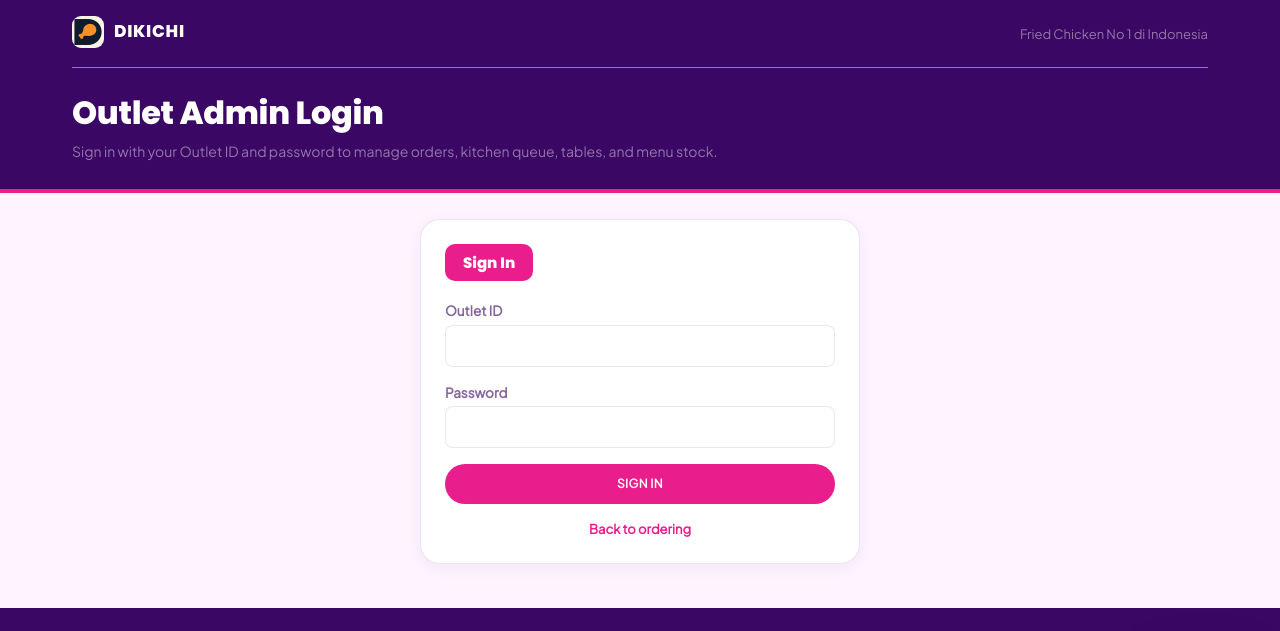
LoginPage › shows the generic failure and keeps what was typed after a 401
The width and height of the screenshot is (1280, 631).
Type "OUT-01" into the field labelled "Outlet ID" at (640, 346), box [445,325,835,367]
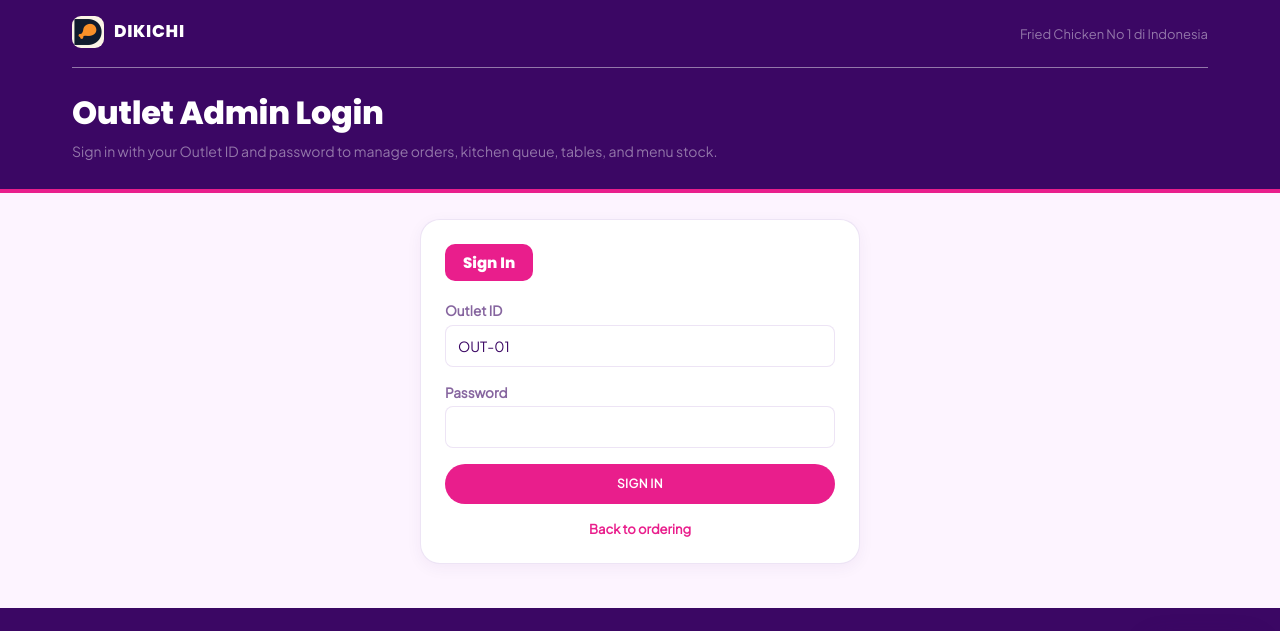
Type "wrong" into the password field labelled "Password" at (640, 428), box [445,406,835,448]
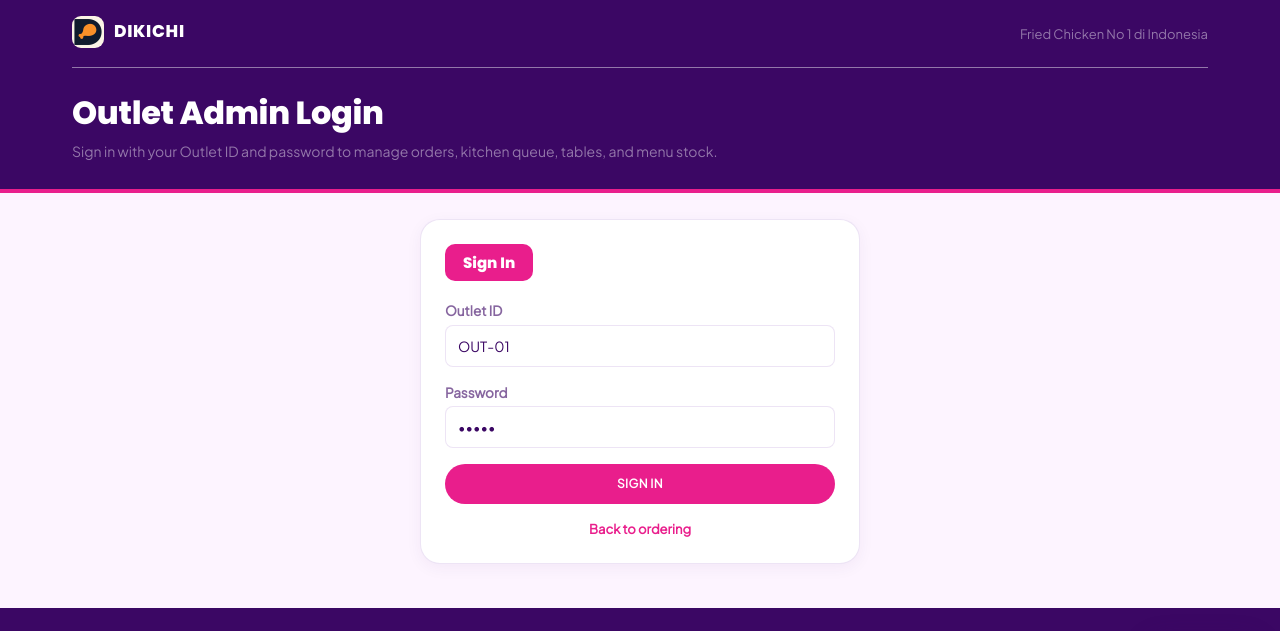
Click the button "Sign In" at (640, 484), box [445,464,835,504]
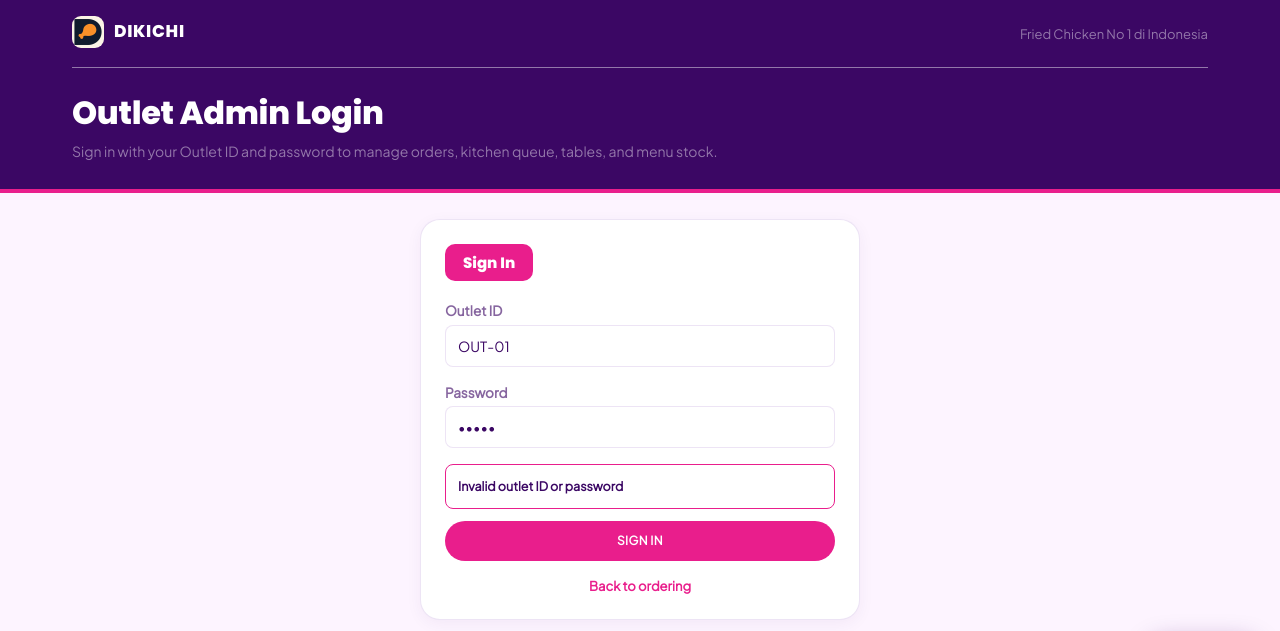
Expected: the message reads "Invalid outlet ID or password", [458,478,623,494]
